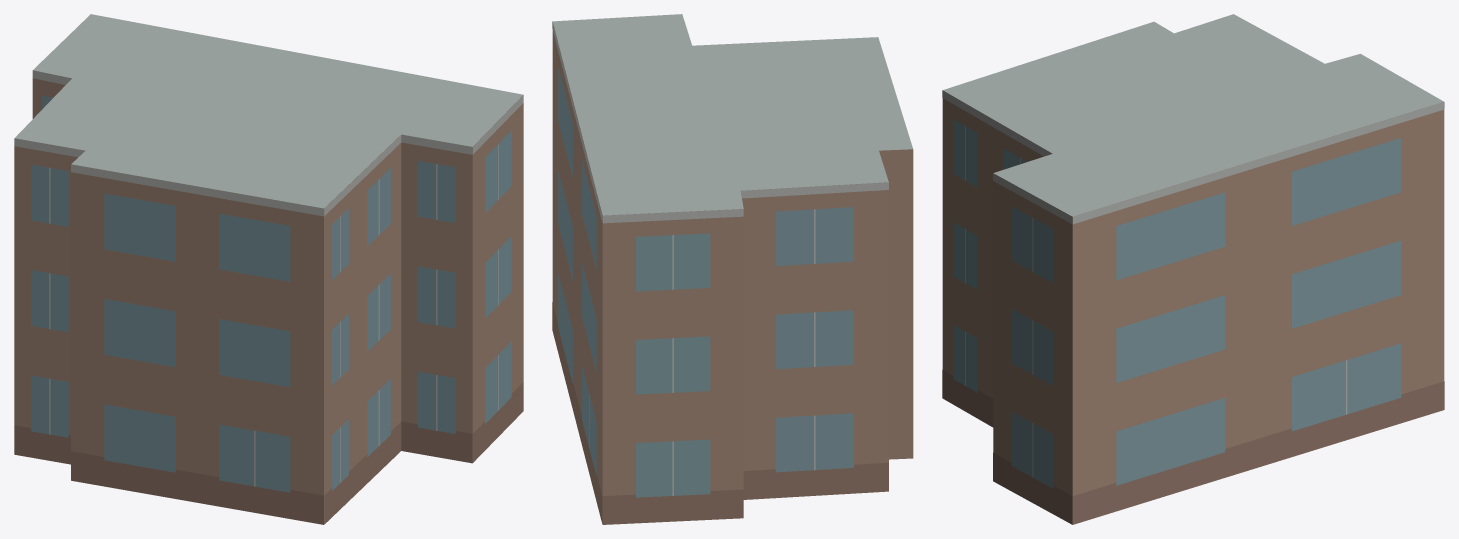
Rendered from survey-upis-32495150.glb.
3 views of the same model, side by side, from view 1: azimuth 30°, elevation 25°; view 2: azimuth 150°, elevation 25°; view 3: azimuth 270°, elevation 25° (orthographic). The views are drawn at different scales.
Visible parts, largest first — view 1: survey-upis-32495150.tmp; view 2: survey-upis-32495150.tmp; view 3: survey-upis-32495150.tmp.
Part boxes in pixels (x1,y1,x2,y2): survey-upis-32495150.tmp: (14,14,523,524); survey-upis-32495150.tmp: (552,14,913,524); survey-upis-32495150.tmp: (942,14,1444,524).
Size of the model in its own units: 13.69 by 9.7 by 14.33.
